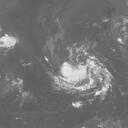cyclone: (58, 58, 111, 102)
